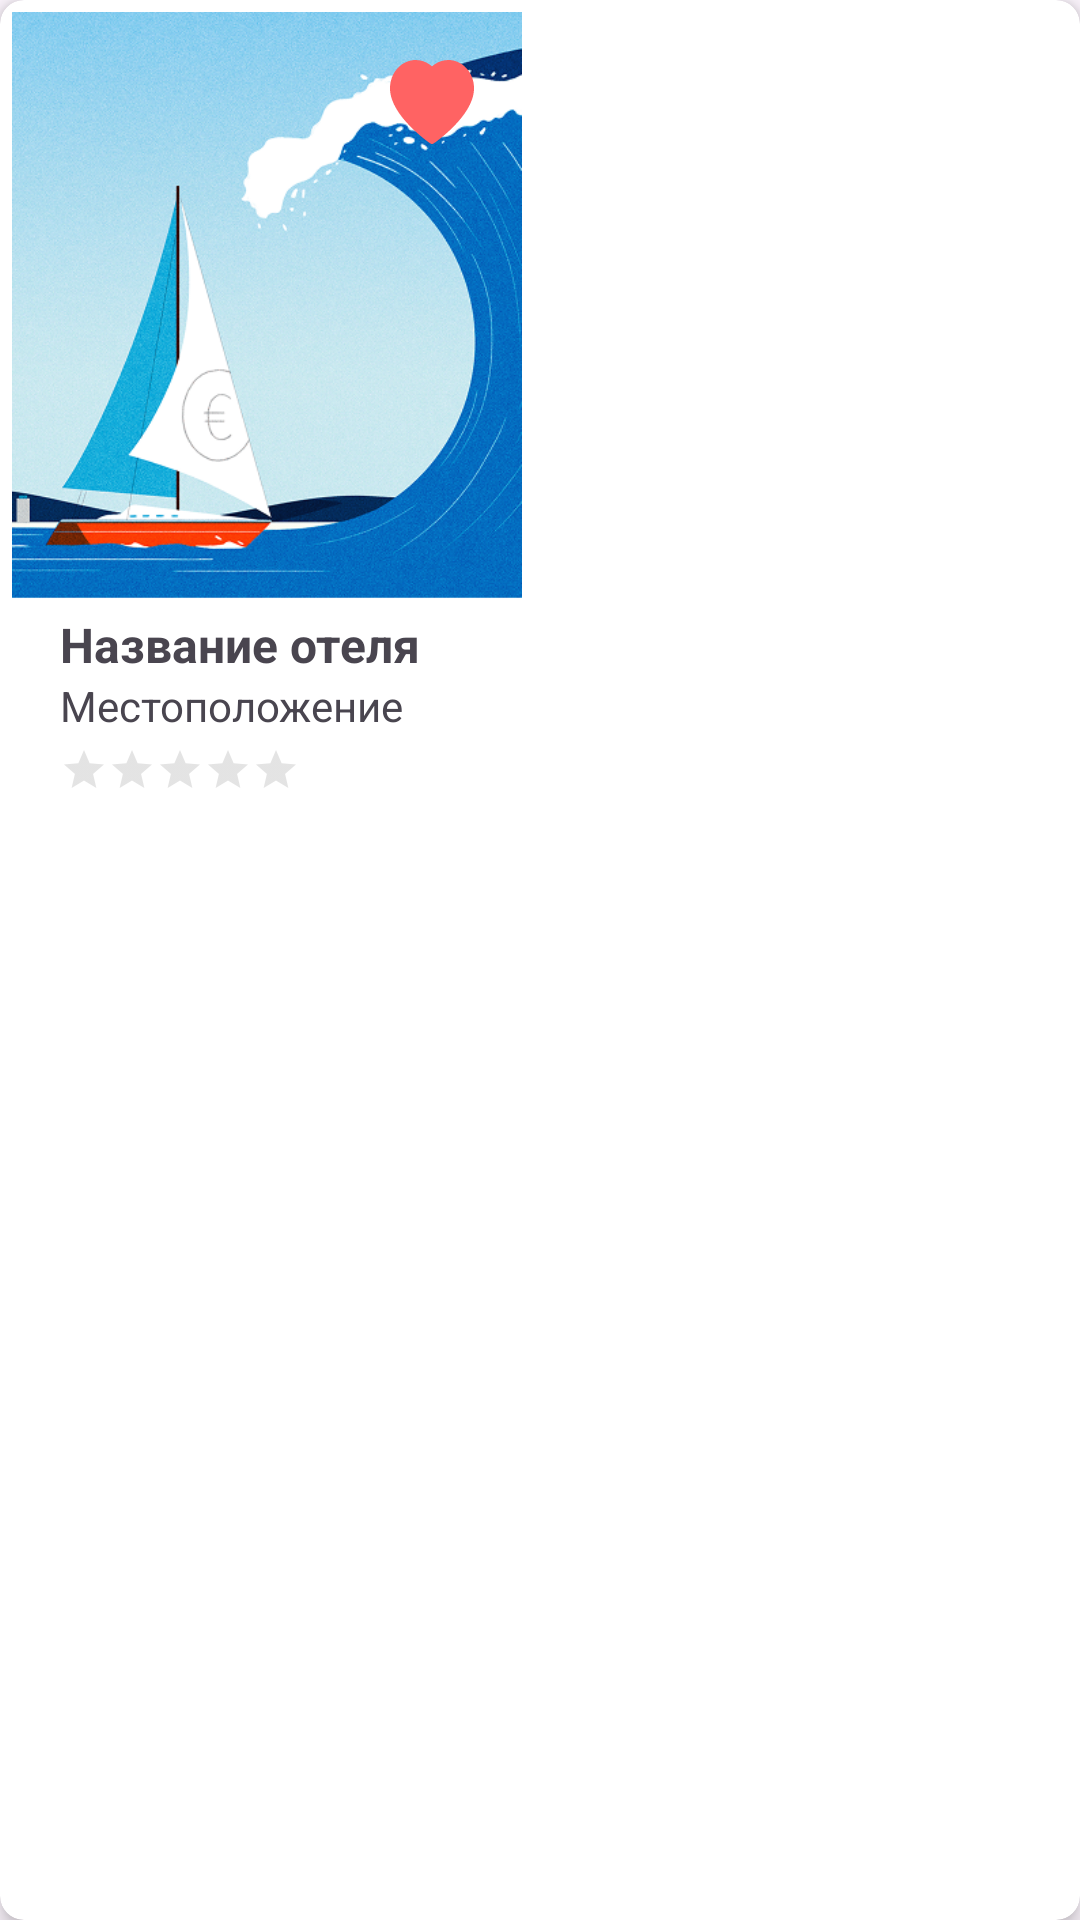

Point at icon controls on the screen. Image size 1080 × 1920, points as [x,y].
like: [432,102]
